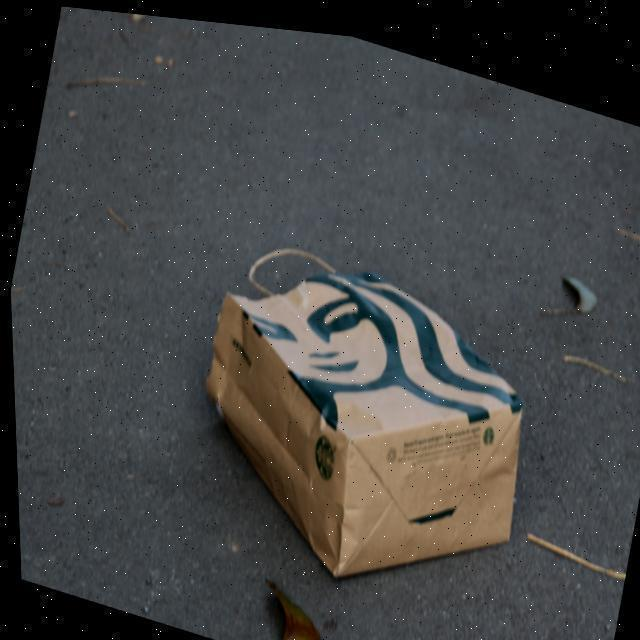Paper_Bag: (165, 218, 554, 624)
